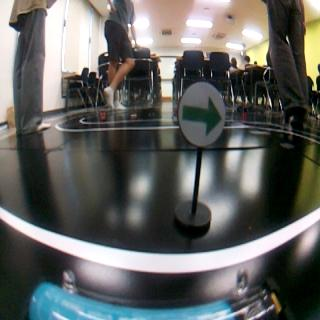right: (178, 81, 224, 146)
